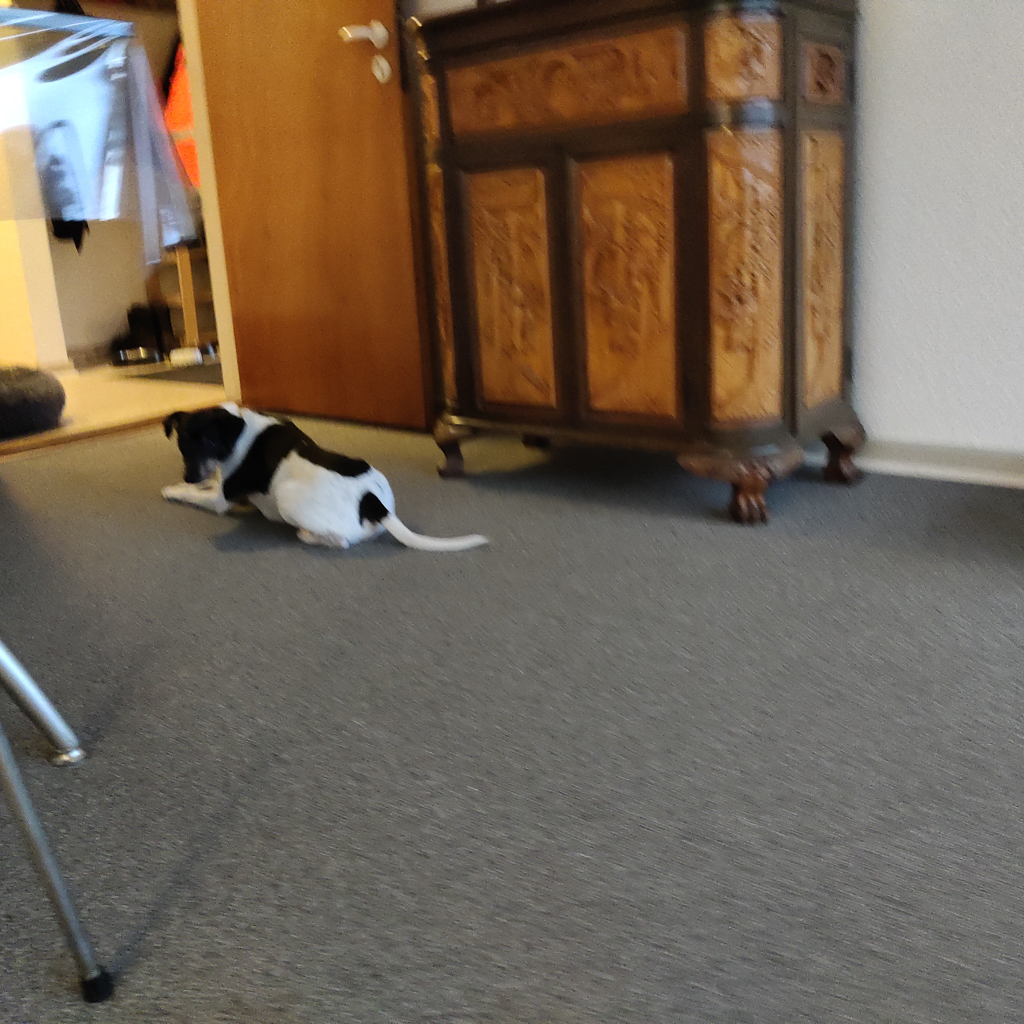Dog: (142, 383, 507, 571)
